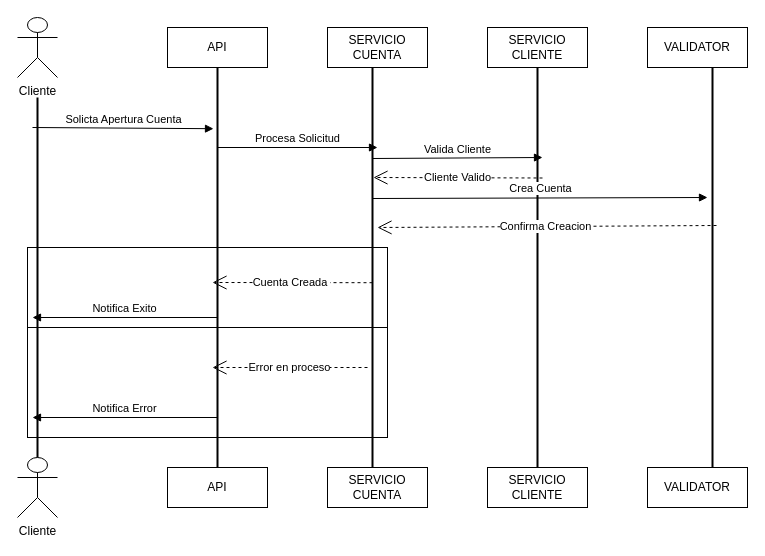
The diagram is 765 pixels wide and 556 high, and some of its shapes have lost their labels. The shapes that lost their labels are listed below. From the top down, each one's centre as x and y in pixels, then its label:
At [207,287]: "[Operacion Exitosa]".
At [207,380]: "Error".
